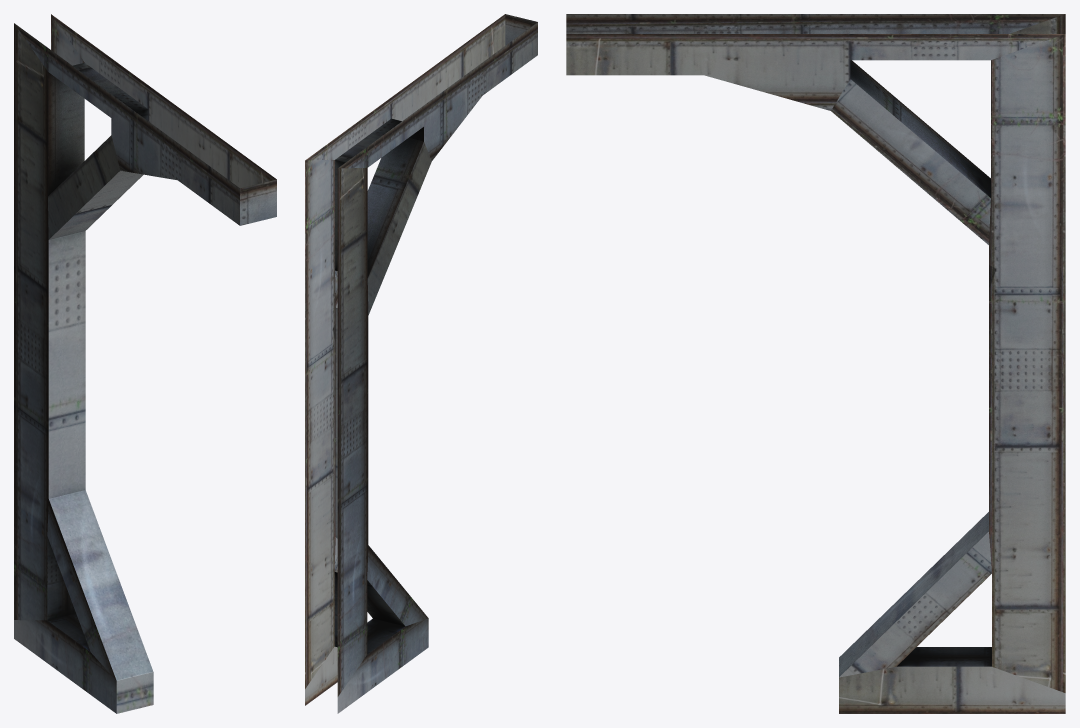
The model's file is Splitter01.fbx.
The picture shows the model from 3 angles, left to right: view 1: azimuth 30°, elevation 25°; view 2: azimuth 150°, elevation 25°; view 3: azimuth 270°, elevation 25°; orthographic projection. The views are drawn at different scales.
Parts seen in each view (by area): view 1: Plane.194; view 2: Plane.194; view 3: Plane.194.
Part boxes in pixels (box(x1,y1,x2,y2)): Plane.194: box(14, 14, 276, 713); Plane.194: box(305, 14, 537, 713); Plane.194: box(566, 14, 1065, 713).
Bounding box in the file's own units: 12.6 × 201 × 134.
